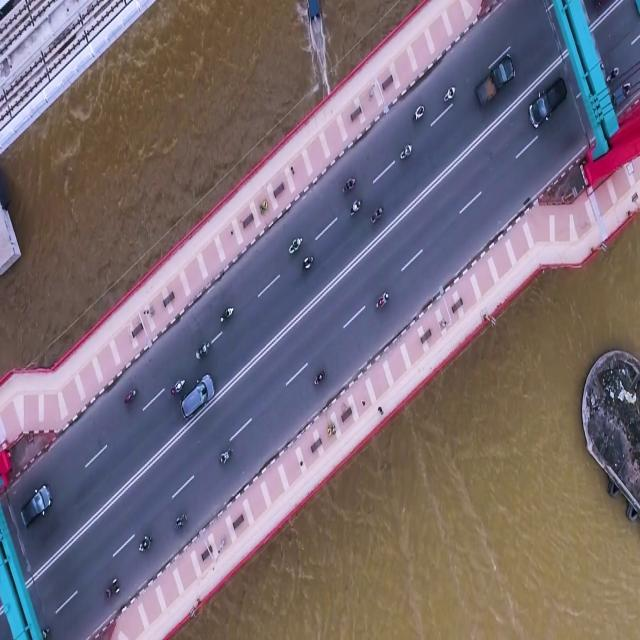vehicle: (474, 54, 516, 106), (528, 76, 568, 128), (181, 372, 214, 418), (19, 483, 52, 527), (170, 377, 186, 395), (106, 576, 120, 596), (376, 290, 390, 308), (288, 236, 302, 253), (342, 176, 356, 193), (196, 341, 210, 358), (138, 534, 152, 551), (220, 446, 233, 464), (220, 306, 234, 322), (175, 512, 188, 529), (371, 205, 383, 222), (444, 85, 456, 102), (302, 253, 314, 270), (314, 368, 326, 385), (413, 104, 425, 120), (350, 198, 362, 214), (400, 143, 412, 159), (125, 388, 136, 403), (41, 627, 50, 638), (378, 407, 384, 416)
